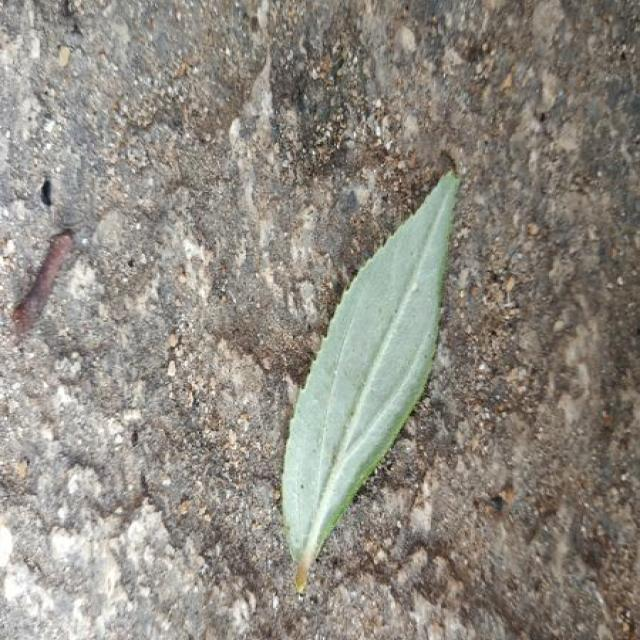Astma_weed: (282, 172, 458, 593)
